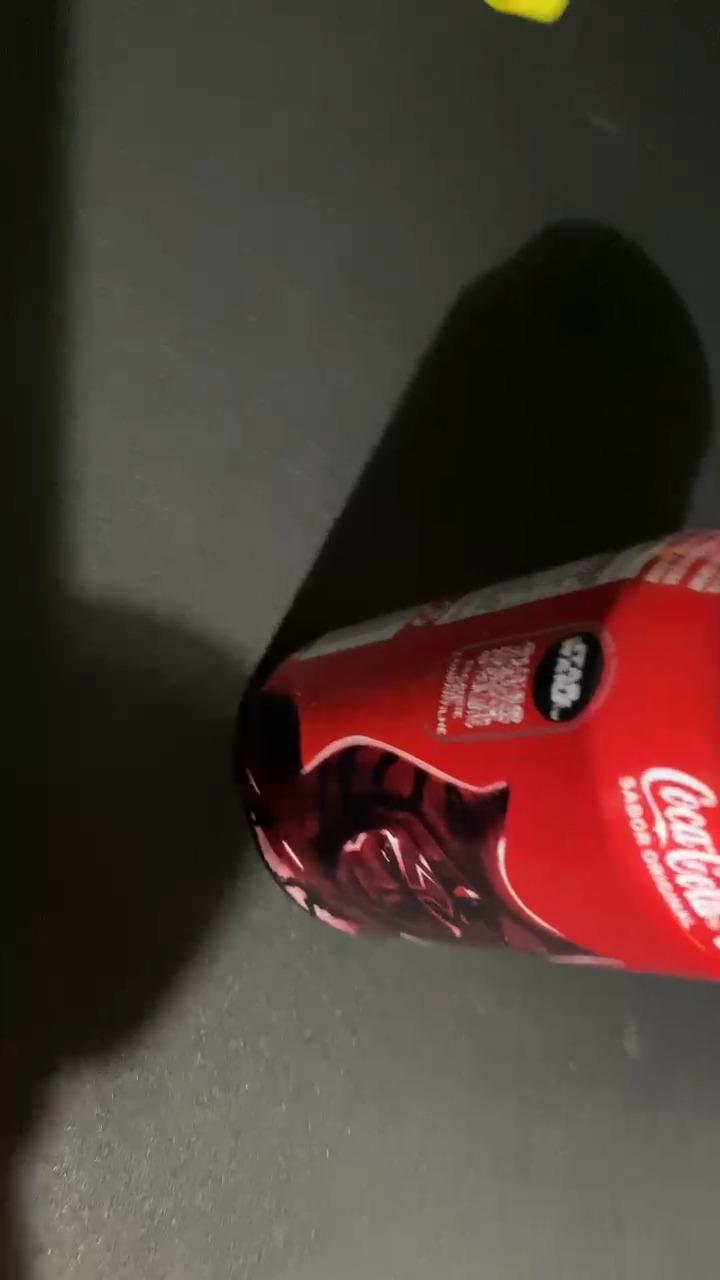coke: (240, 535, 720, 985)
